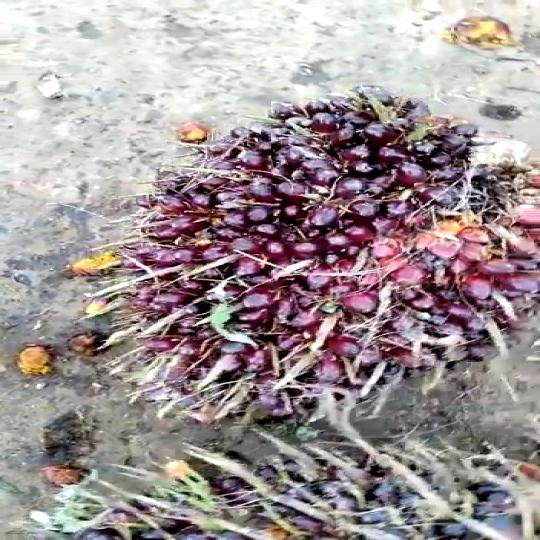kurang masak: (112, 72, 540, 410)
